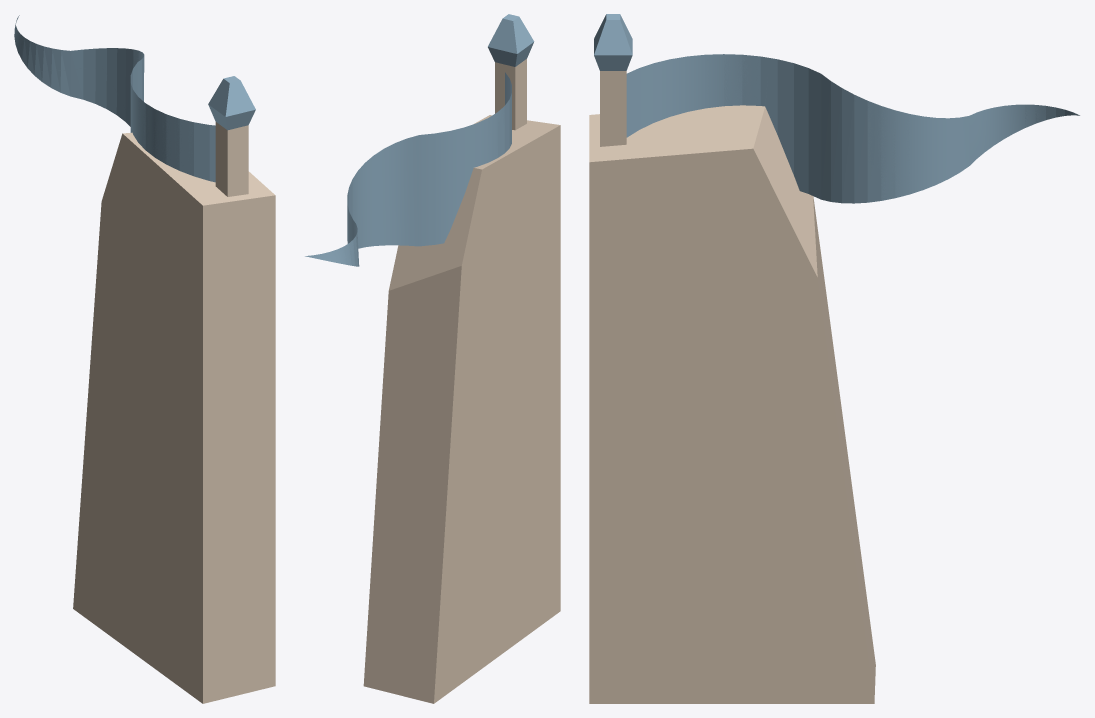
The model's file is flagBlue.fbx.
The picture shows the model from 3 angles, left to right: view 1: azimuth 30°, elevation 25°; view 2: azimuth 150°, elevation 25°; view 3: azimuth 270°, elevation 25°; orthographic projection. The views are drawn at different scales.
Parts seen in each view (by area): view 1: flagBlue_cell.003, flagBlue, flagBlue_cell.011, flagBlue_cell.006, flagBlue_cell.008, flagBlue_cell.002, flagBlue_cell, flagBlue_cell.010, flagBlue_cell.001; view 2: flagBlue_cell.003, flagBlue, flagBlue_cell.010, flagBlue_cell.011; view 3: flagBlue_cell.003, flagBlue, flagBlue_cell.008, flagBlue_cell.011, flagBlue_cell.010.
Part boxes in pixels (x1,y1,x2,y2): flagBlue_cell.003: (73, 132, 275, 703); flagBlue: (14, 23, 255, 196); flagBlue_cell.011: (138, 98, 215, 181); flagBlue_cell.006: (32, 68, 130, 126); flagBlue_cell.008: (99, 48, 144, 121); flagBlue_cell.002: (48, 47, 102, 70); flagBlue_cell: (212, 80, 255, 120); flagBlue_cell.010: (215, 122, 247, 196); flagBlue_cell.001: (25, 39, 47, 72); flagBlue_cell.003: (363, 115, 560, 703); flagBlue: (305, 14, 529, 266); flagBlue_cell.010: (495, 59, 526, 130); flagBlue_cell.011: (488, 93, 511, 158); flagBlue_cell.003: (589, 105, 875, 703); flagBlue: (594, 14, 1056, 200); flagBlue_cell.008: (765, 58, 910, 203); flagBlue_cell.011: (705, 54, 769, 106); flagBlue_cell.010: (600, 71, 626, 146).
Bounding box in the file's own units: 99.98 × 797 × 530.
